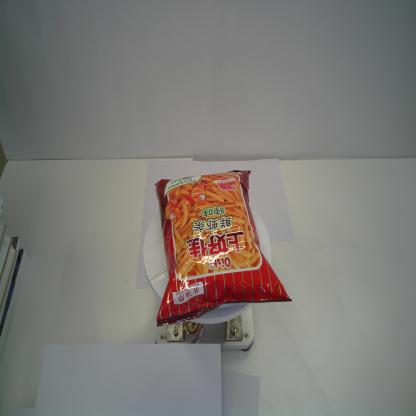Puffed Food: (155, 170, 292, 328)
